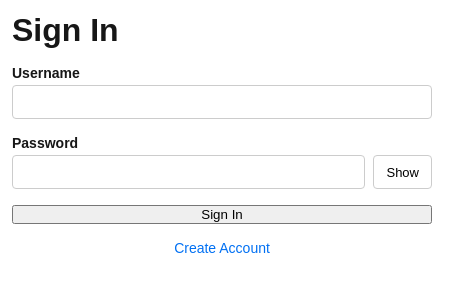
Scenario: AuthForm - sign in mode › blocks submission and shows errors when fields are empty
Click the button "Sign In" at (222, 214), box top-left (12, 205), bottom-right (432, 224)
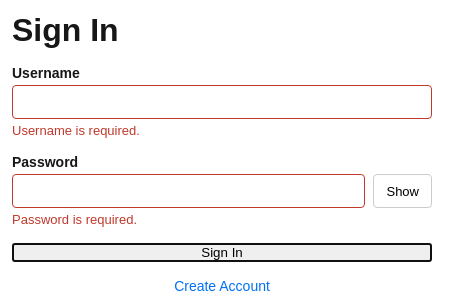
Result: the text "Username is required." is shown at top-left (12, 123), bottom-right (140, 138)
Result: the text "Password is required." is shown at top-left (12, 212), bottom-right (137, 227)
